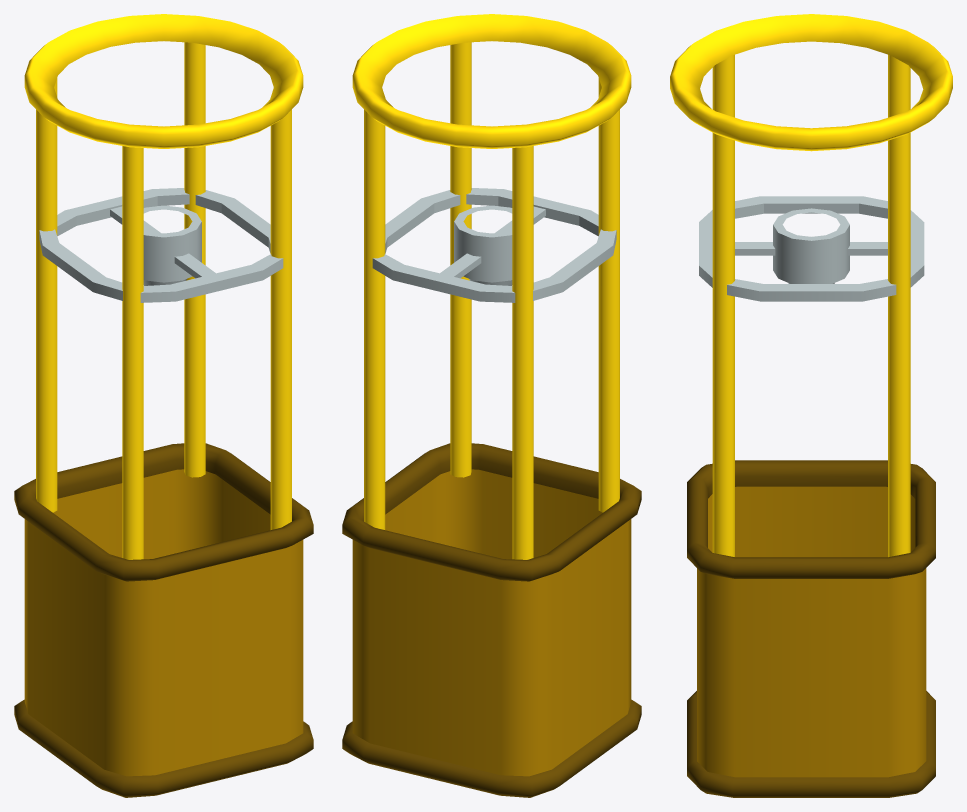
File: balloonBasket.glb
The picture shows the model from 3 angles, left to right: view 1: azimuth 30°, elevation 25°; view 2: azimuth 150°, elevation 25°; view 3: azimuth 270°, elevation 25°; orthographic projection.
Visible parts, largest first — view 1: balloonBasket; view 2: balloonBasket; view 3: balloonBasket.
Boxes of the visible parts, box(x1,y1,x2,y2) form: balloonBasket: box(14, 14, 313, 797); balloonBasket: box(342, 14, 641, 797); balloonBasket: box(670, 14, 952, 797).
Bounding box in the file's own units: 2.47 × 6.52 × 2.47.
